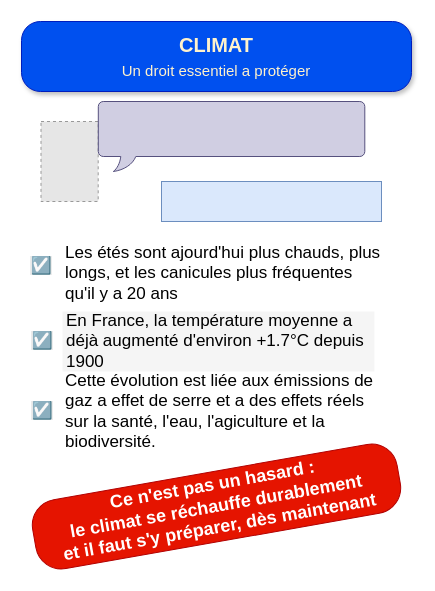
The diagram is 435 pixels wide and 591 high, and some of its shapes have lost their labels. Grey dashed boxes stand in for pictures. The shapes that lost their labels are listed below. From the top down, each one's centre as x and y in pixels, then its label:
At point (231, 136): "C'est juste un été un peu plus chaud, çà a toujours existé !".
At point (271, 201): "La réalité :".
